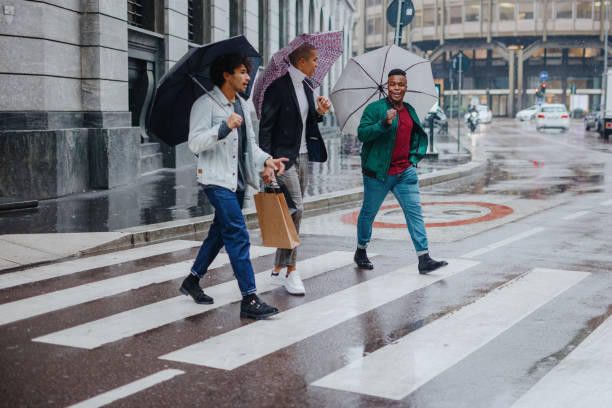yaya: (135, 0, 276, 319), (337, 47, 452, 290), (248, 15, 326, 317)
